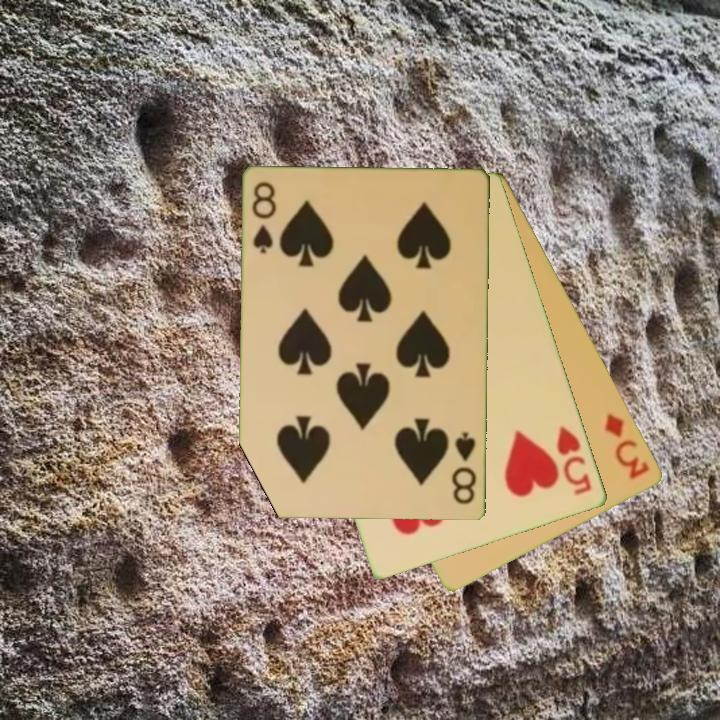3d: (601, 410, 653, 482)
5h: (553, 422, 595, 499)
8s: (449, 429, 480, 507), (249, 178, 279, 257)
